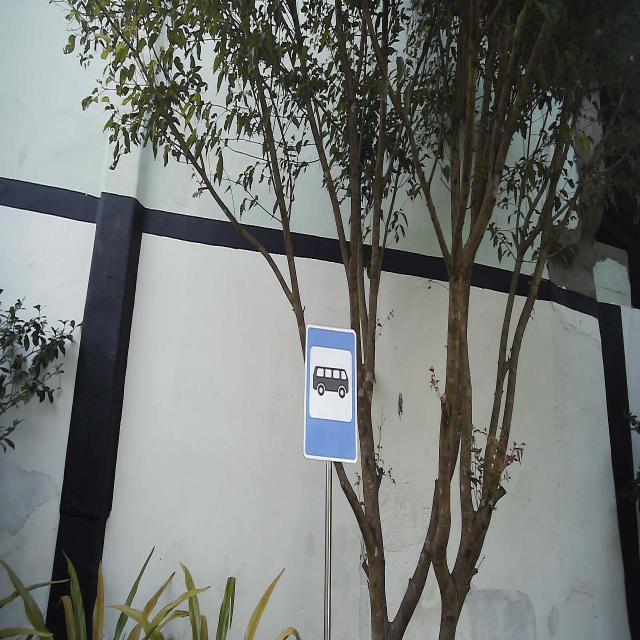bus_stop: (302, 323, 359, 465)
